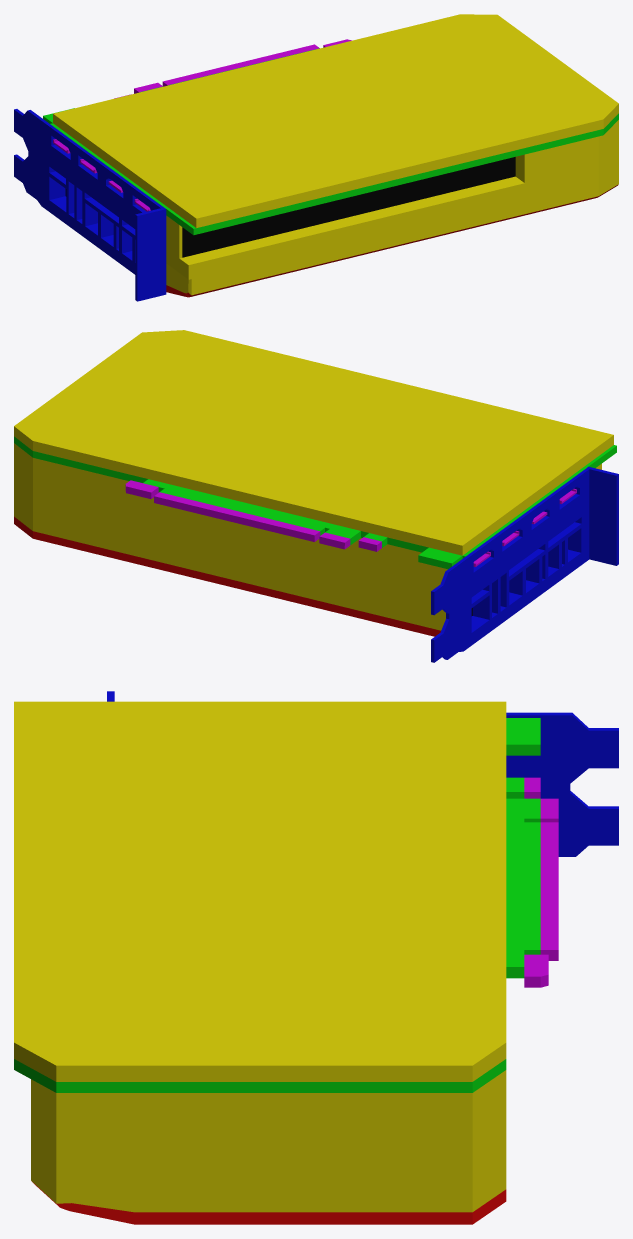
Rendered from GPU.fbx.
The picture shows the model from 3 angles, top to bottom: view 1: azimuth 30°, elevation 25°; view 2: azimuth 150°, elevation 25°; view 3: azimuth 270°, elevation 25°; orthographic projection. The views are drawn at different scales.
Parts seen in each view (by area): view 1: GPU; view 2: GPU; view 3: GPU.
Boxes of the visible parts, <box> form: GPU: <box>14,14,618,301</box>; GPU: <box>14,330,618,662</box>; GPU: <box>14,691,618,1224</box>.
Bounding box in the file's own units: 21.59 × 4.2 × 14.13.
